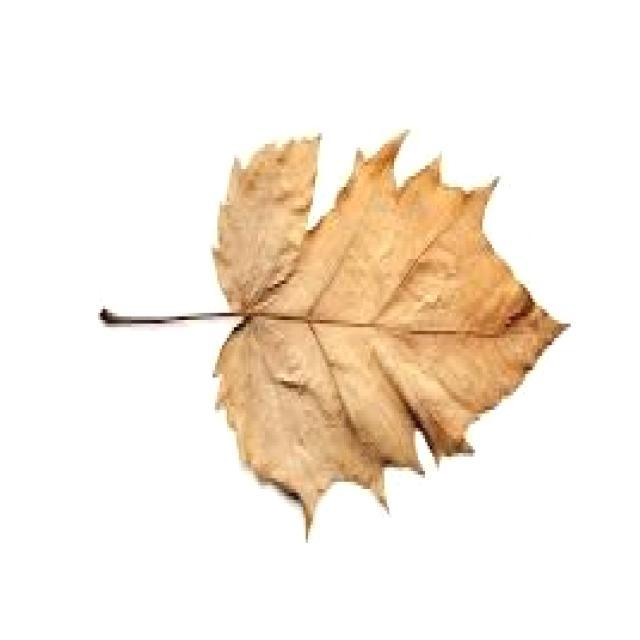leaf: (99, 128, 570, 541)
